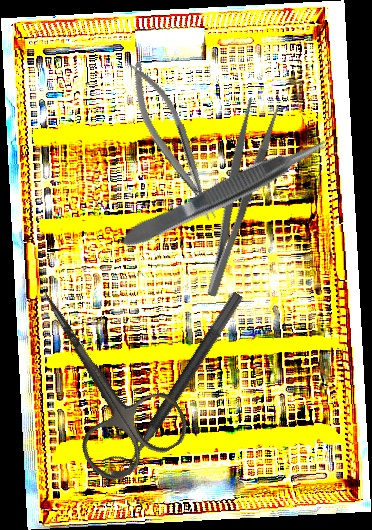Dressing Forceps: (186, 96, 283, 299)
Fixation Ring: (98, 281, 245, 484)
Iris Scissors: (1, 263, 196, 490)
Needle Holder: (120, 53, 224, 230)
Tissue Forceps: (114, 130, 338, 254)
